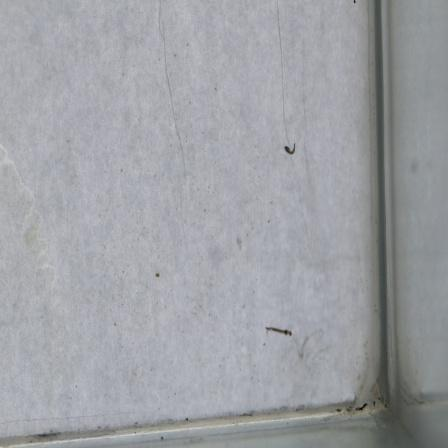Jentik-Nyamuk: (262, 321, 295, 343), (279, 138, 299, 159)
